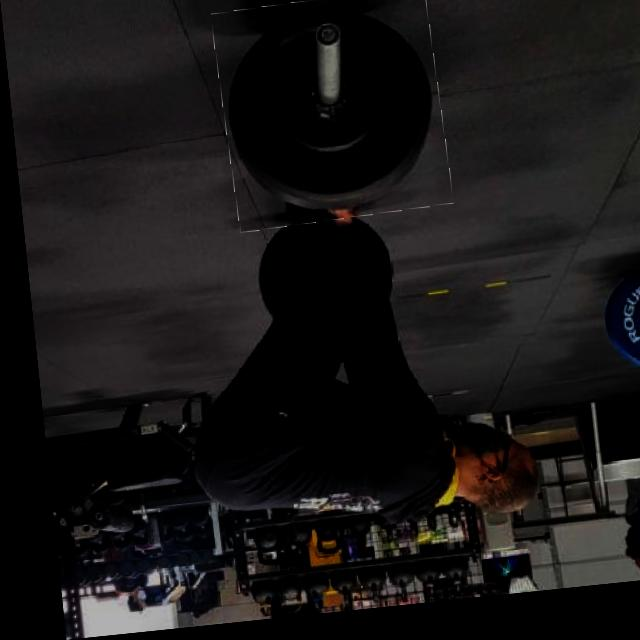barbell: (212, 1, 447, 237)
